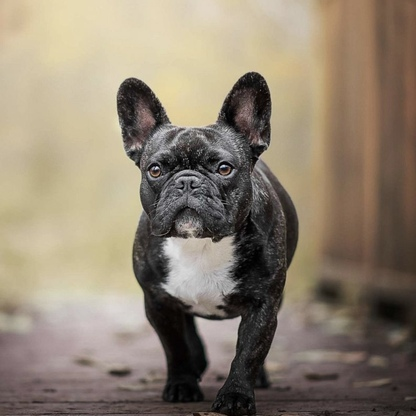bulldog: (114, 68, 305, 414)
